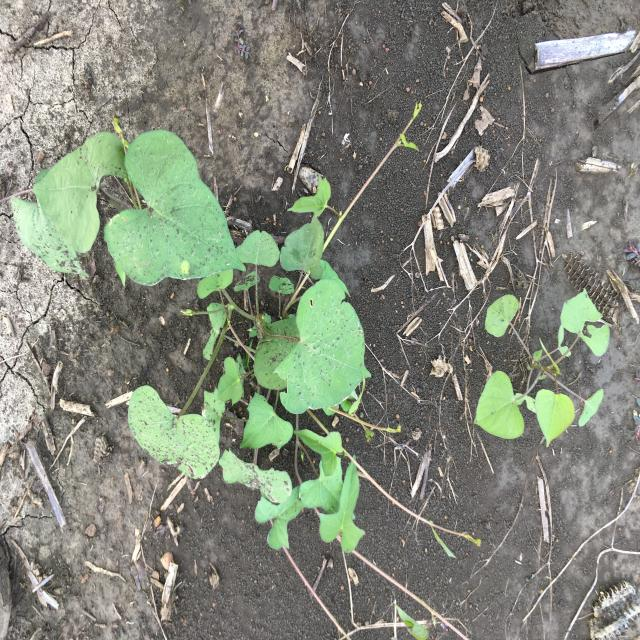MorningGlory: (3, 100, 483, 634), (473, 286, 612, 450)
